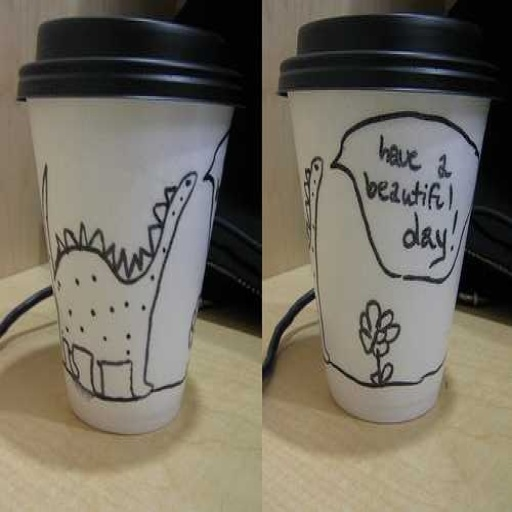cup: (15, 14, 237, 436), (274, 12, 494, 424)
